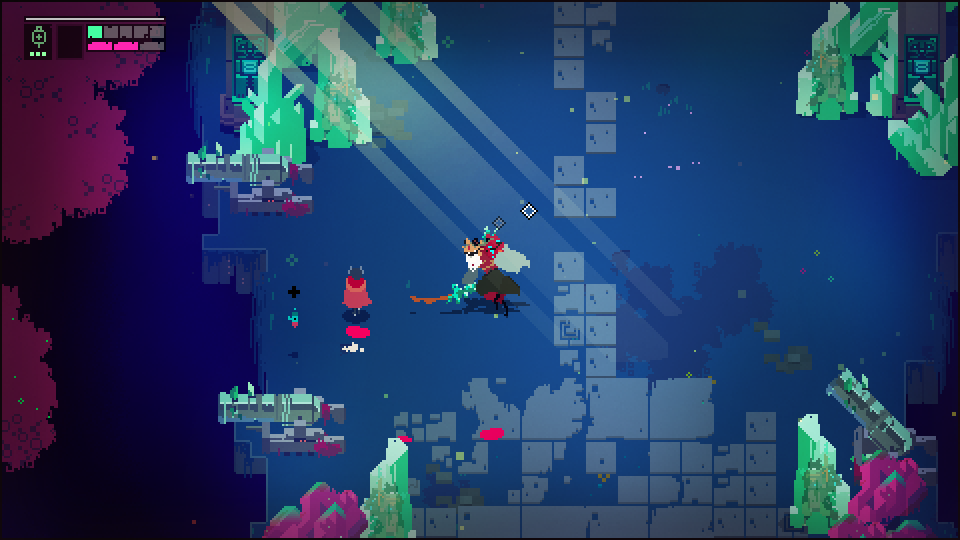hanged_man: (448, 224, 527, 310)
player: (342, 266, 369, 315)
